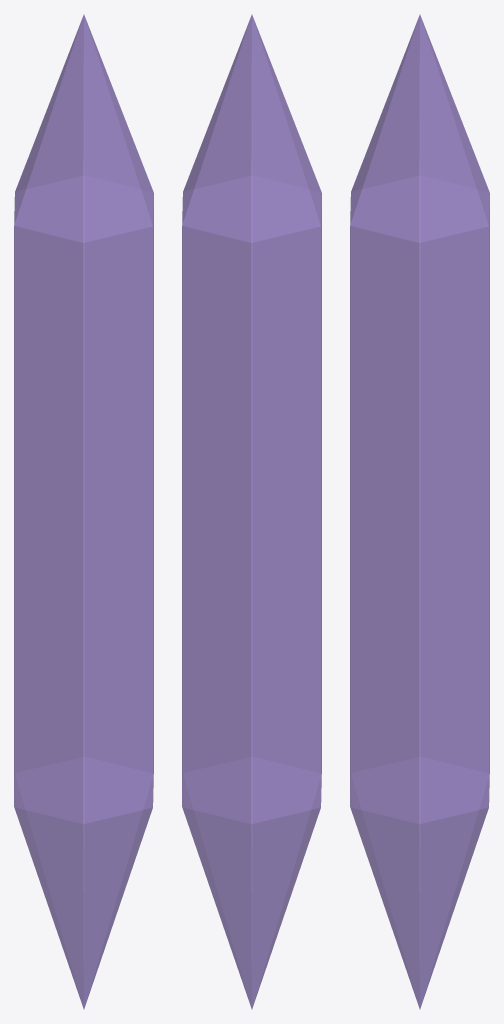
The model's file is Gem_New_07.fbx.
3 renders of one model, left to right at view 1: azimuth 90°, elevation 25°; view 2: azimuth 150°, elevation 25°; view 3: azimuth 330°, elevation 25°, orthographic.
Visible parts, largest first — view 1: Model; view 2: Model; view 3: Model.
Boxes of the visible parts, bbox=[...] form: Model: bbox=[14, 14, 153, 1009]; Model: bbox=[182, 14, 321, 1009]; Model: bbox=[350, 14, 489, 1009].
Bounding box in the file's own units: 70.36 × 482 × 61.28.
